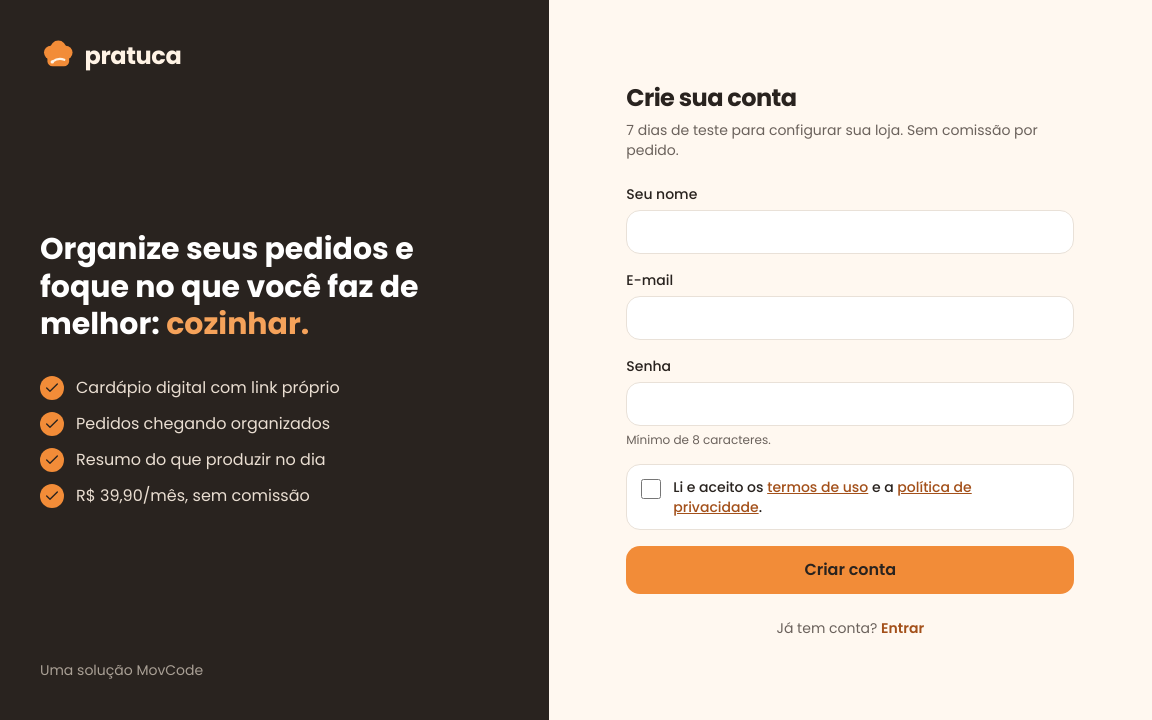
Test: cadastro › pede confirmação de e-mail quando o Supabase exige
Step 1. Type "Ana" into the field labelled "Seu nome" → (850, 232), box [626,210,1074,254]
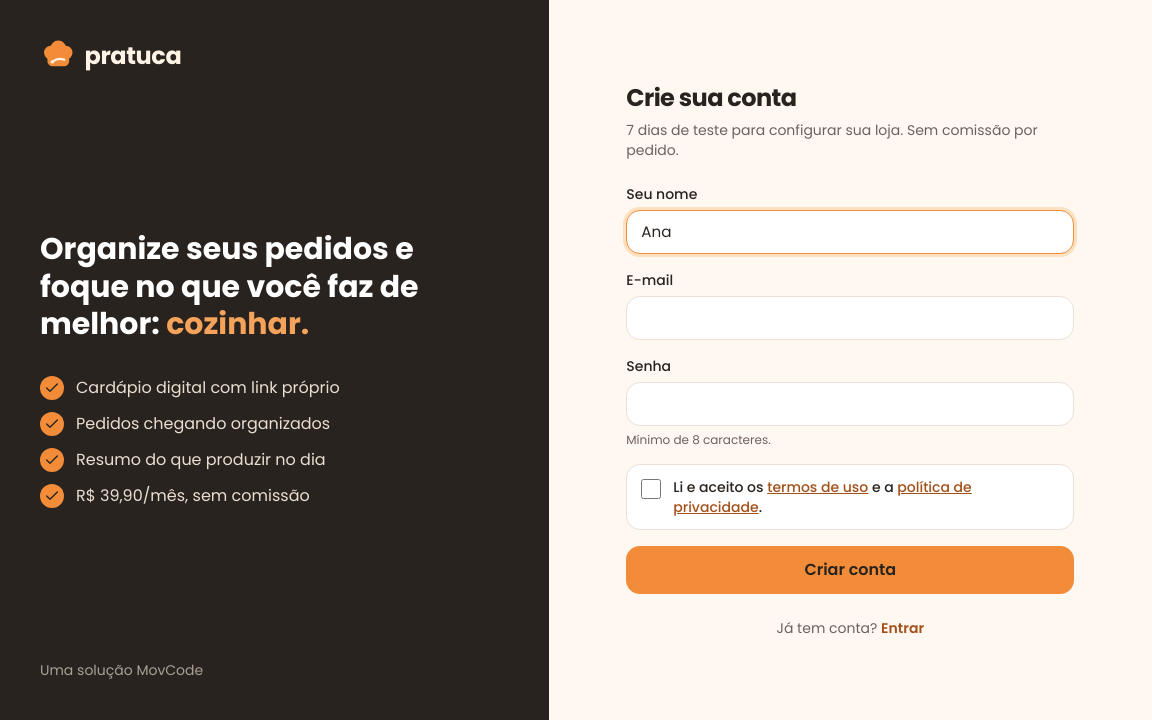
Step 2. Type "ana@exemplo.com" into the field labelled "E-mail" → (850, 318), box [626,296,1074,340]
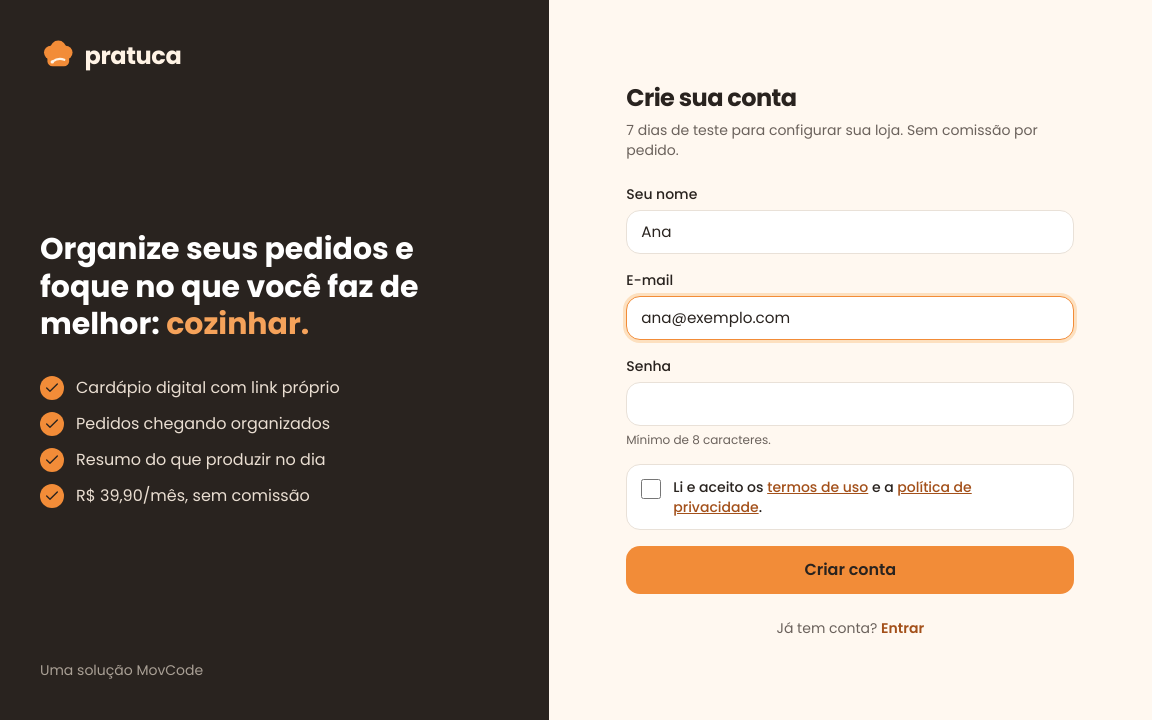
Step 3. Type "senha-forte-123" into the password field labelled "Senha" → (850, 404), box [626,382,1074,426]
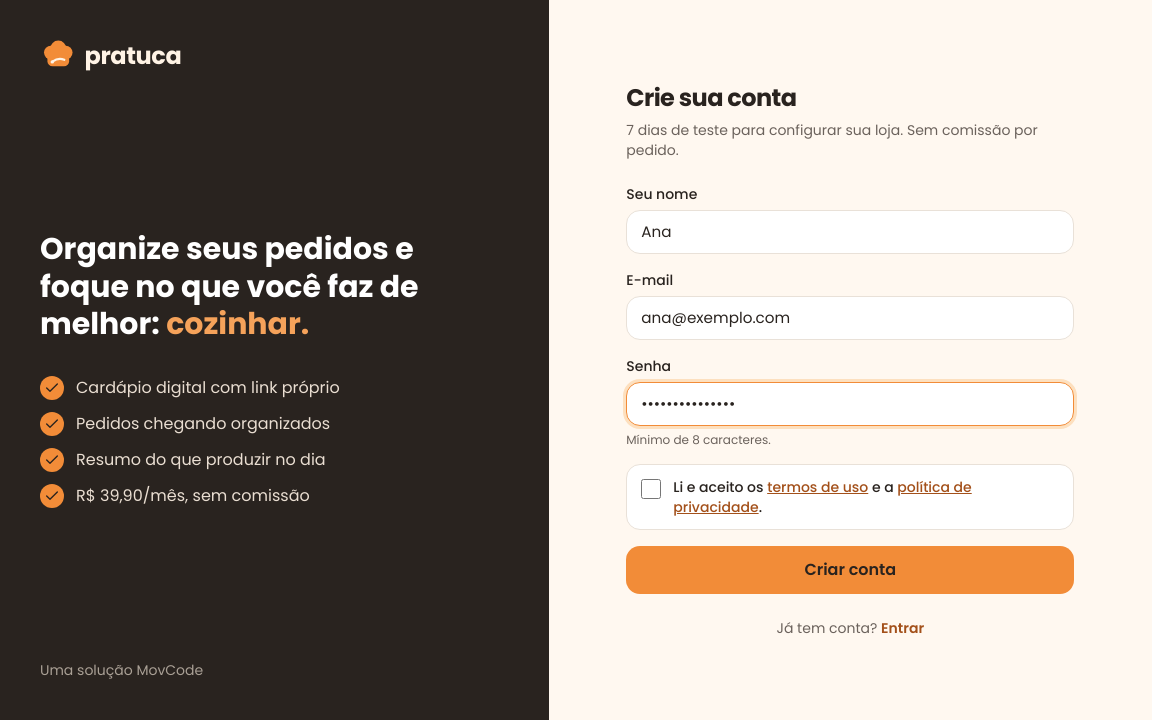
Step 4. Click the checkbox → (651, 489), box [641,479,661,499]
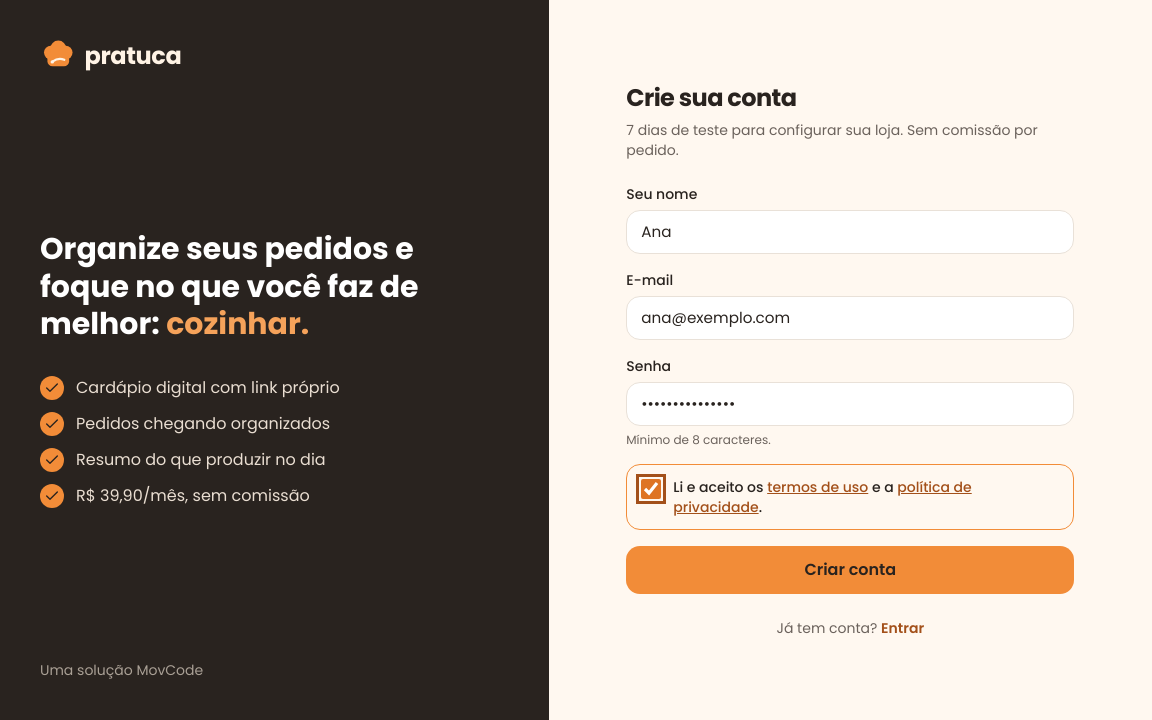
Step 5. Click the button "Criar conta" → (850, 570), box [626,546,1074,594]
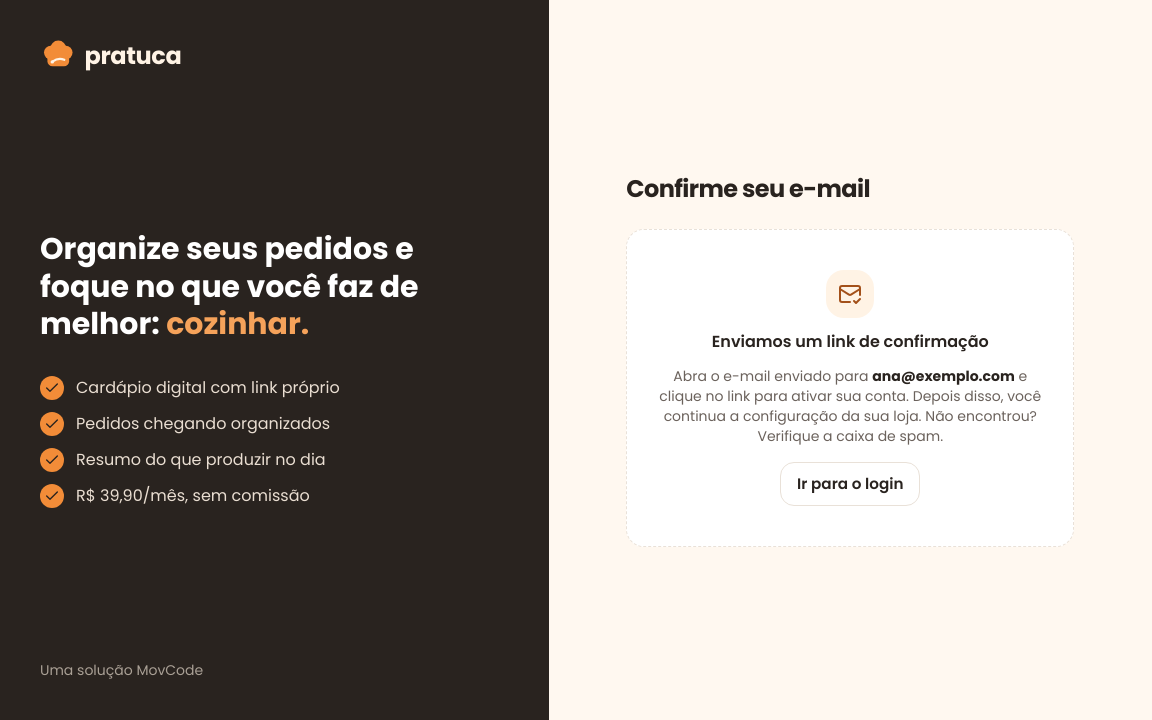
Expected: the heading "Enviamos um link de confirmação" is shown, [712,330,989,354]
